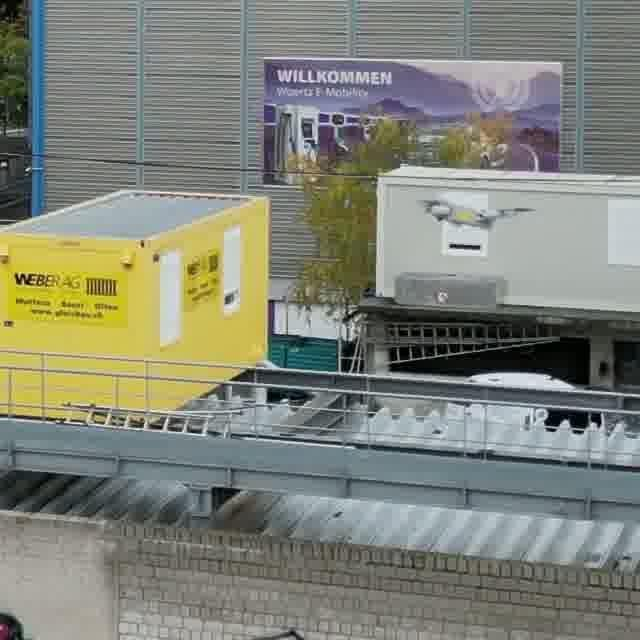Drohne: (423, 194, 533, 229)
